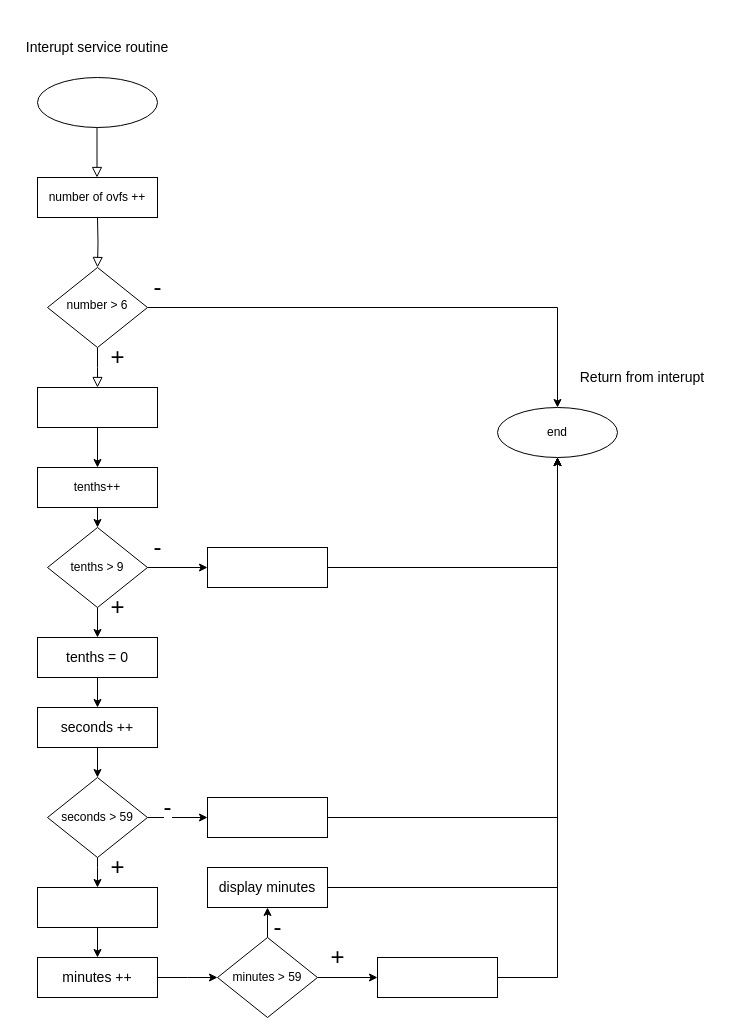
The diagram is 734 pixels wide and 1035 high, and some of its shapes have lost their labels. Here are the shapes that lost their labels. From the top down, the box of each, then its label:
(36, 76, 158, 128): Timer2 OVF
(36, 386, 158, 428): number = 0
(206, 546, 328, 588): display tenths
(206, 796, 328, 838): display seconds
(36, 886, 158, 928): seconds = 0
(376, 956, 498, 998): minutes = 0
